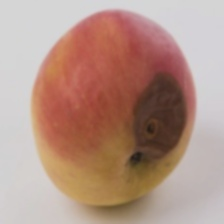apple: (30, 33, 188, 179)
